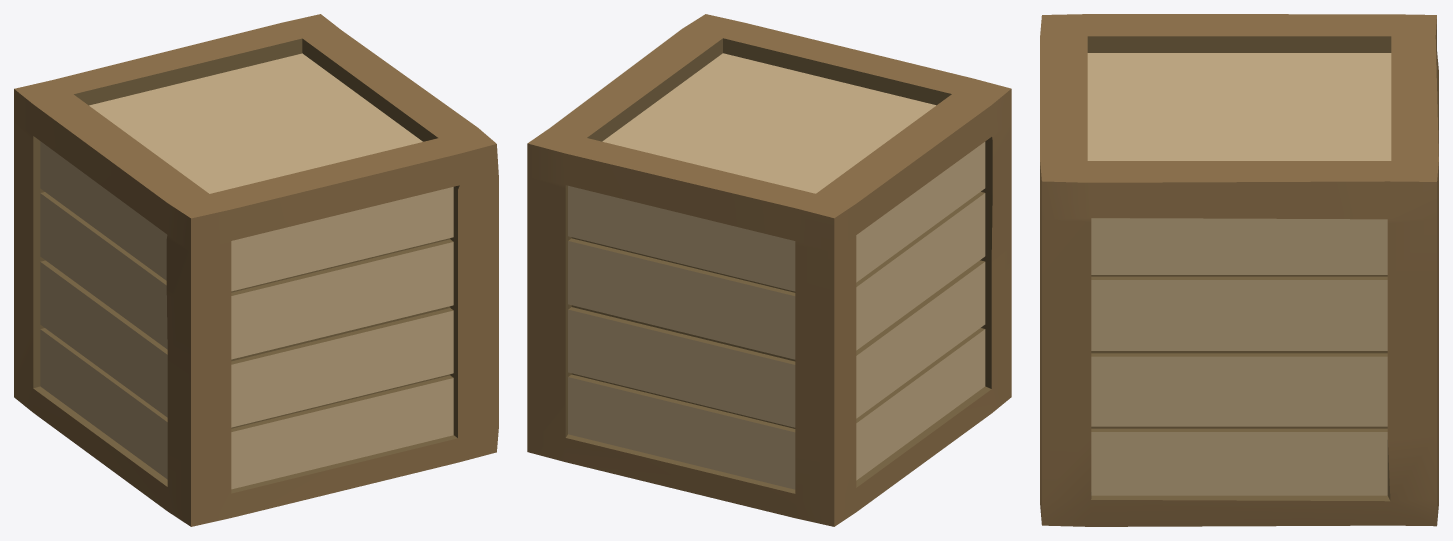
The model's file is Crate.fbx.
3 views of the same model, side by side, from view 1: azimuth 30°, elevation 25°; view 2: azimuth 150°, elevation 25°; view 3: azimuth 270°, elevation 25° (orthographic). The views are drawn at different scales.
Visible parts, largest first — view 1: Crate1; view 2: Crate1; view 3: Crate1.
Boxes of the visible parts, left/top/right/bottom form: Crate1: left=14, top=14, right=498, bottom=526; Crate1: left=527, top=14, right=1011, bottom=526; Crate1: left=1040, top=14, right=1438, bottom=526.
Size of the model in its own units: 102 by 96.01 by 101.
Materials: 1 (1 with a texture image).
